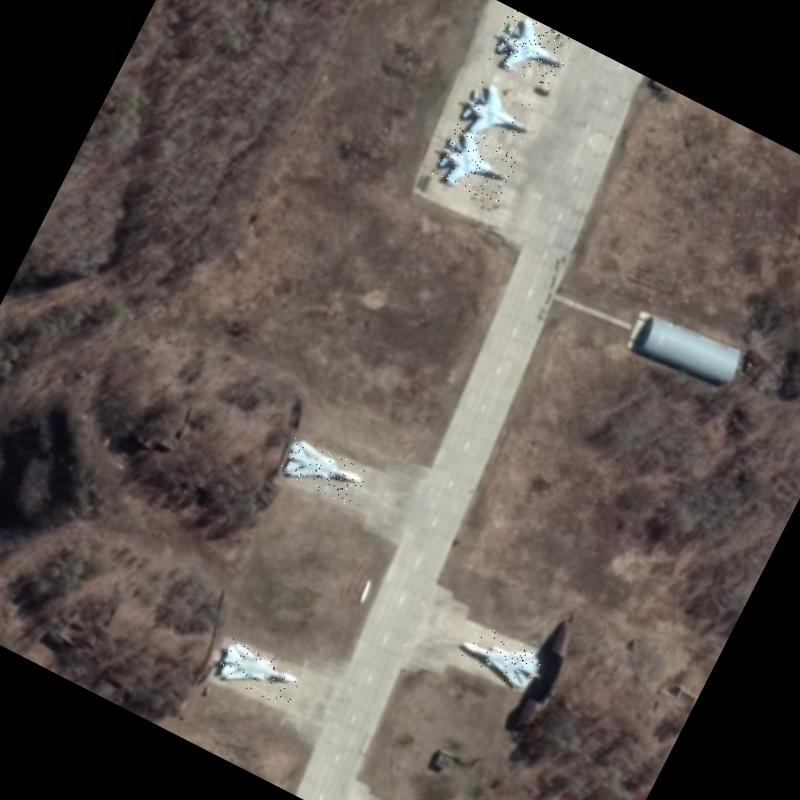A1: (430, 121, 522, 206), (453, 74, 546, 158), (485, 8, 576, 90)
A20: (278, 434, 368, 507), (456, 620, 544, 692), (214, 638, 303, 709)
